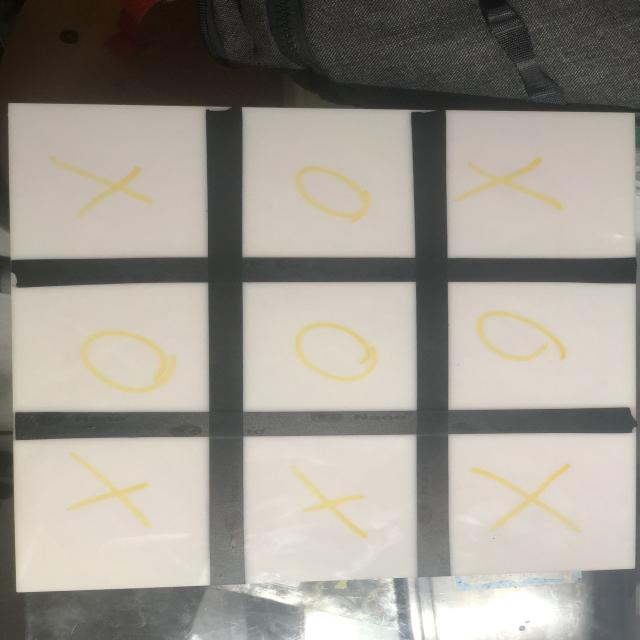o: (77, 327, 179, 393), (295, 315, 391, 385), (287, 163, 374, 226), (478, 309, 568, 366)
table: (5, 101, 637, 597)
x: (470, 456, 589, 546), (39, 147, 161, 221), (62, 451, 162, 532), (457, 155, 577, 220), (289, 464, 378, 542)
